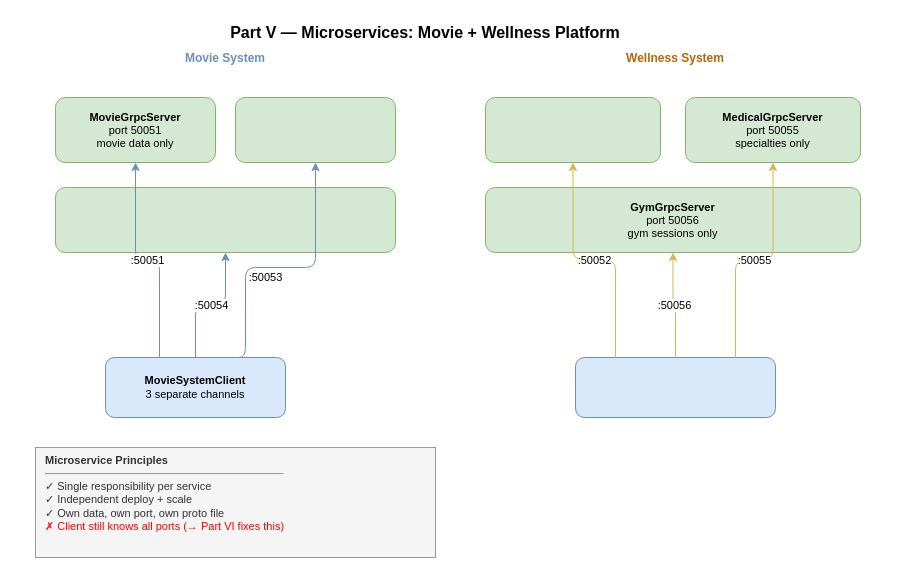
This 920x577 diagram has some shape labels left out. The shapes that lost their labels are listed below. From the top down, each one's centre as x and y in pixels, then its label:
At (x=315, y=129): "ReviewGrpcServer port 50053 reviews only".
At (x=572, y=129): "AppointmentGrpcServer port 50052 appointments only".
At (x=225, y=219): "RecommendationGrpcServer port 50054 recommendations only".
At (x=675, y=387): "WellnessSystemClient 3 separate channels".
